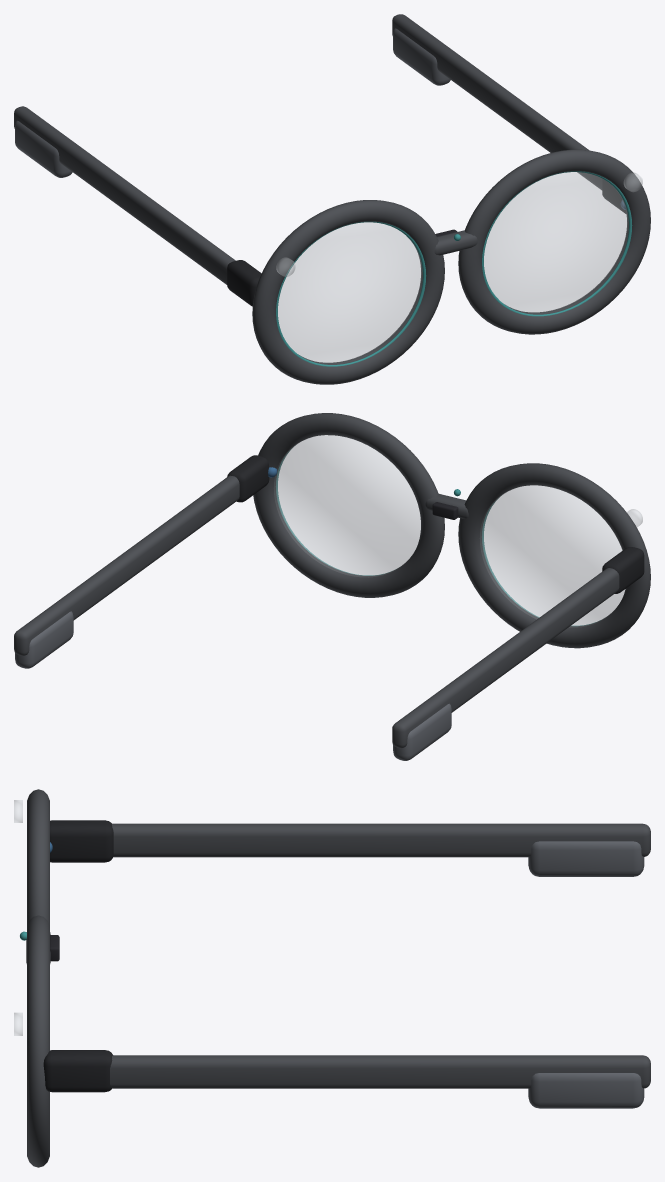
File: LunaVision.glb
The picture shows the model from 3 angles, top to bottom: view 1: azimuth 30°, elevation 25°; view 2: azimuth 150°, elevation 25°; view 3: azimuth 270°, elevation 25°; orthographic projection. The views are drawn at different scales.
Visible parts, largest first — view 1: Lens1, Lens-1, Rim-1, Rim1, Temple-1, Temple1, Battery1, Battery-1, Waveguide1, Waveguide-1, Projector-1, Bridge; view 2: Lens1, Lens-1, Rim1, Rim-1, Temple-1, Temple1, Battery-1, Battery1, Projector1, Projector-1; view 3: Temple-1, Temple1, Rim1, Battery1, Battery-1, Rim-1, Projector1, Projector-1.
Boxes of the visible parts, <box> form: Lens1: <box>484,172,628,313</box>; Lens-1: <box>278,222,422,363</box>; Rim-1: <box>252,200,444,384</box>; Rim1: <box>458,149,650,334</box>; Temple-1: <box>14,106,235,284</box>; Temple1: <box>392,14,602,189</box>; Battery1: <box>393,28,450,85</box>; Battery-1: <box>15,120,72,177</box>; Waveguide1: <box>482,171,632,316</box>; Waveguide-1: <box>276,221,426,366</box>; Projector-1: <box>227,260,261,306</box>; Bridge: <box>434,230,477,255</box>; Lens1: <box>274,435,420,577</box>; Lens-1: <box>480,485,625,627</box>; Rim1: <box>253,413,444,597</box>; Rim-1: <box>458,463,650,648</box>; Temple-1: <box>392,568,619,748</box>; Temple1: <box>14,475,239,655</box>; Battery-1: <box>393,703,451,760</box>; Battery1: <box>15,611,73,668</box>; Projector1: <box>227,455,269,502</box>; Projector-1: <box>602,547,644,593</box>; Temple-1: <box>112,823,650,857</box>; Temple1: <box>110,1055,650,1088</box>; Rim1: <box>27,915,49,1167</box>; Battery1: <box>528,1073,644,1108</box>; Battery-1: <box>528,841,644,876</box>; Rim-1: <box>27,789,49,926</box>; Projector1: <box>43,1050,112,1092</box>; Projector-1: <box>50,820,113,862</box>.
Size of the model in its own units: 0.1807 by 0.0775 by 0.2.
